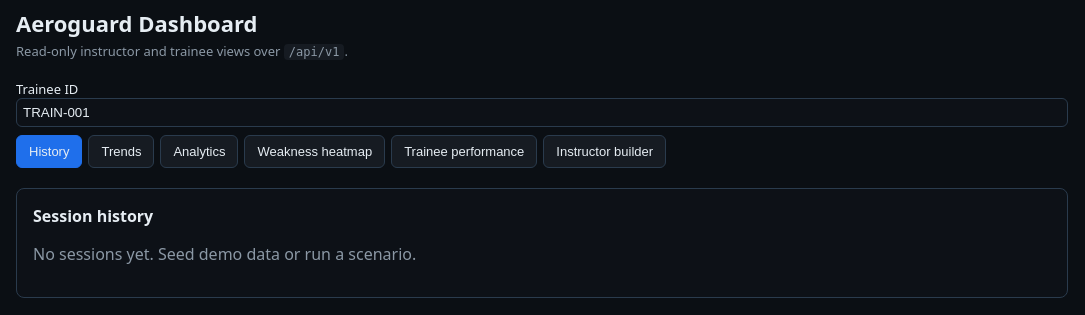
Scenario: App › opens the analytics tab
The width and height of the screenshot is (1085, 315).
Expected: the text "No sessions yet. Seed demo data or run a scenario." is shown, [33,243,416,265]
Click the button "Analytics": (199, 152) [160,135,238,168]
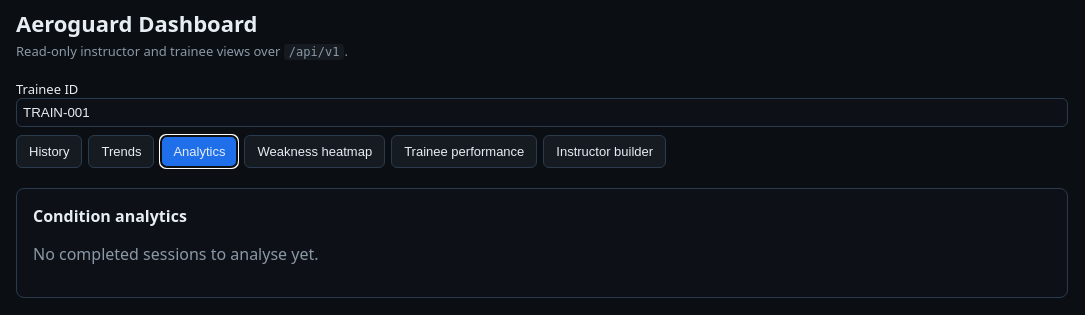
Expected: the heading "Condition analytics" is shown, [33,205,187,227]
Expected: the text "No completed sessions to analyse yet." is shown, [33,243,318,265]
